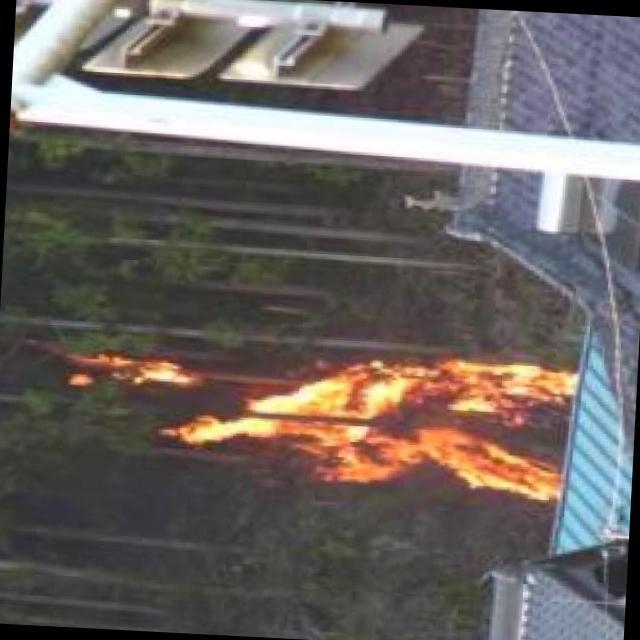Fire: (185, 336, 584, 507), (72, 334, 191, 396)
